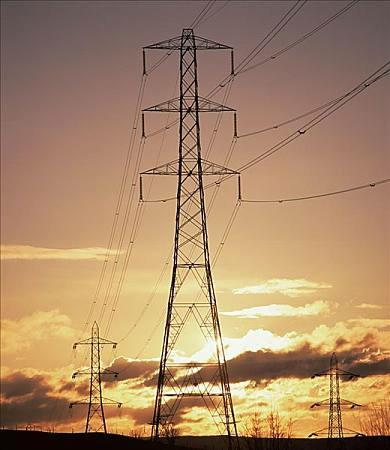power_tower: (144, 27, 249, 433), (72, 317, 126, 438), (302, 351, 366, 442)
